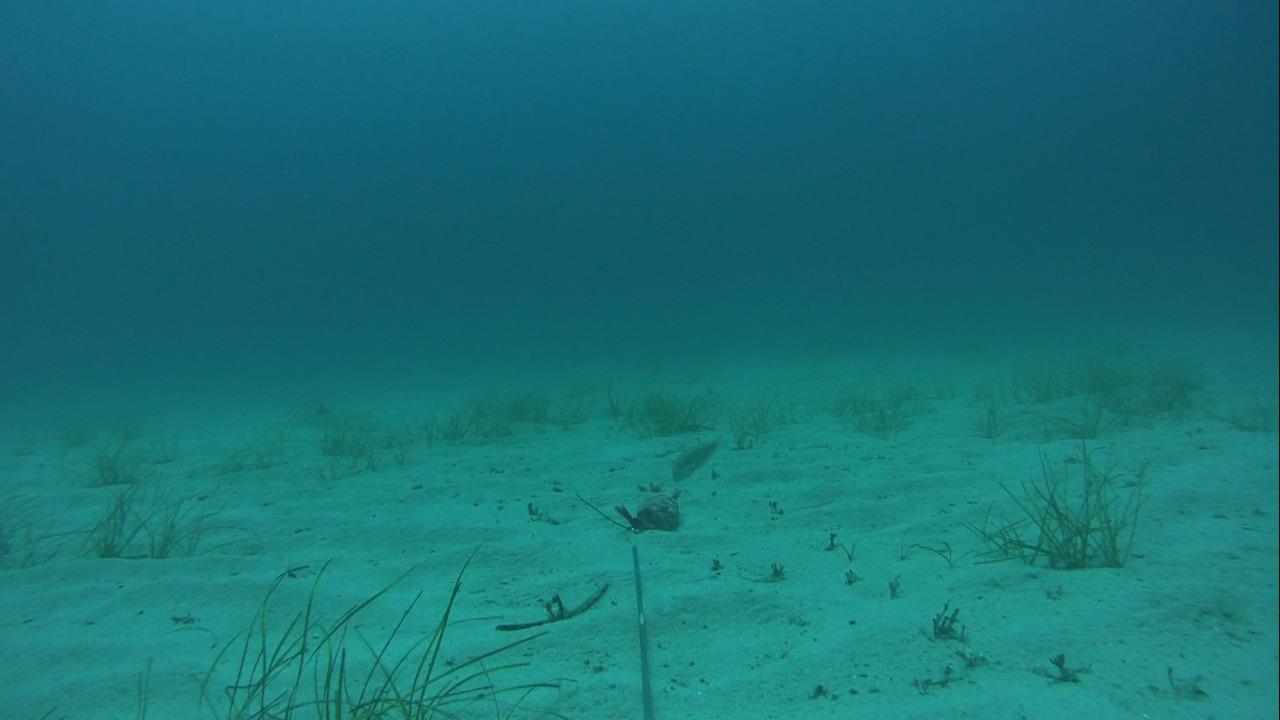raor: (669, 433, 725, 482)
